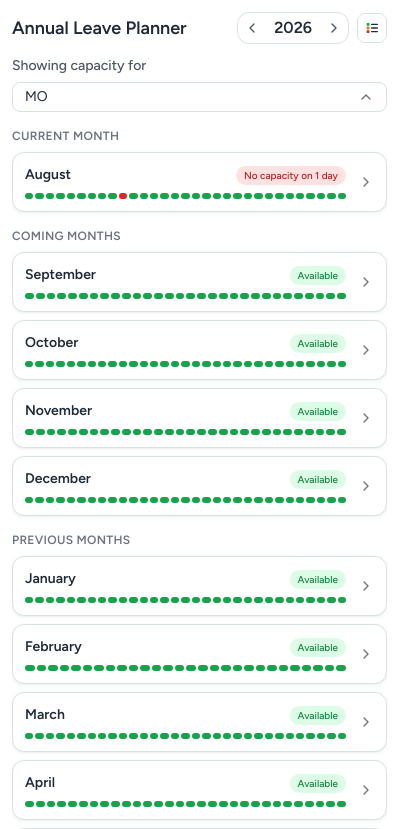
AnnualPlannerOverview — non-admin mobile category finder › switching the category picker re-reads the current month's chip for the newly selected category
Click the button "MO".
click(36, 96)  # box 12,82 -> 387,112
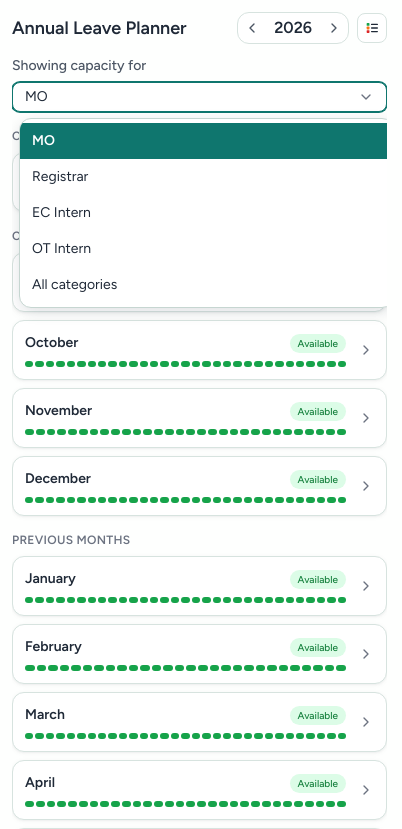
Click the option "Registrar".
click(60, 176)  # box 20,159 -> 393,195
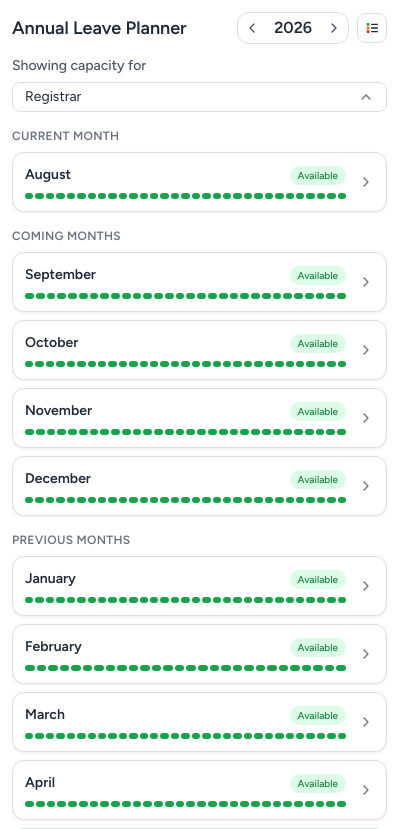
Expected: the text "August" is shown, 25,165 -> 71,185
Expected: the text "Available" below "Current month" is shown, 298,168 -> 338,182
